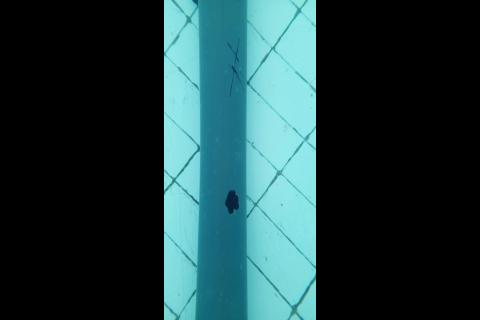kebocoran: (223, 189, 240, 215)
keretakan: (227, 37, 244, 97)
